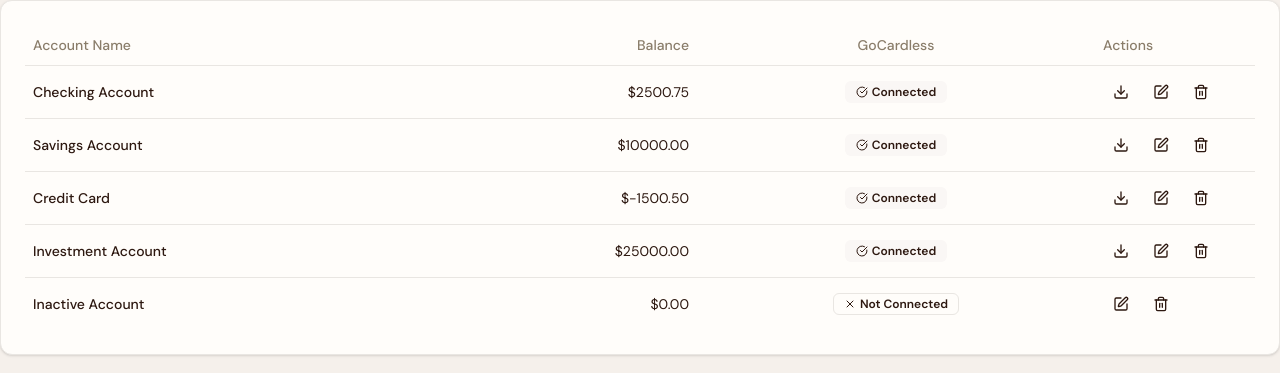
Test: BankAccounts › Account Actions › should show confirm delete state when delete button is clicked first time
Click the button titled "Delete Account" in the row of "Checking Account".
click(1201, 92)  # box top-left (1183, 74), bottom-right (1219, 110)
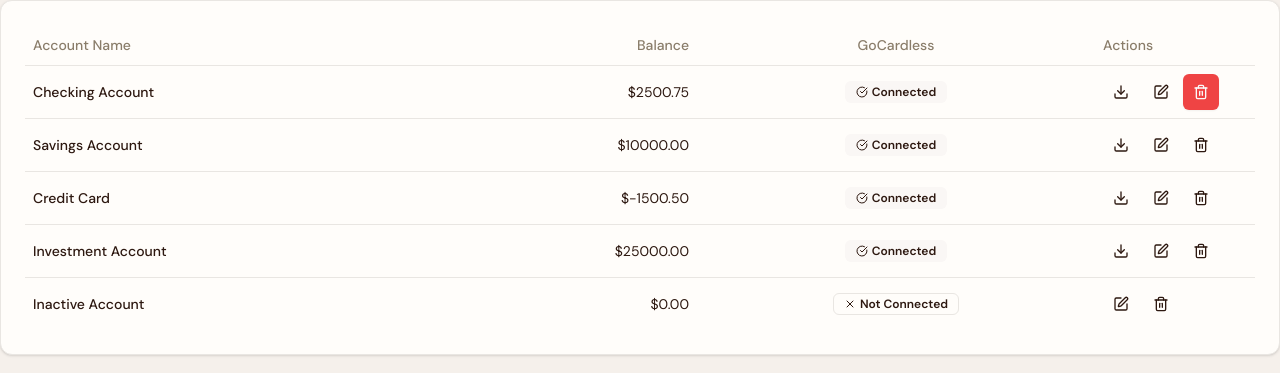
Expected: the button titled "Confirm Delete" is shown, top-left (1183, 74), bottom-right (1219, 110)
